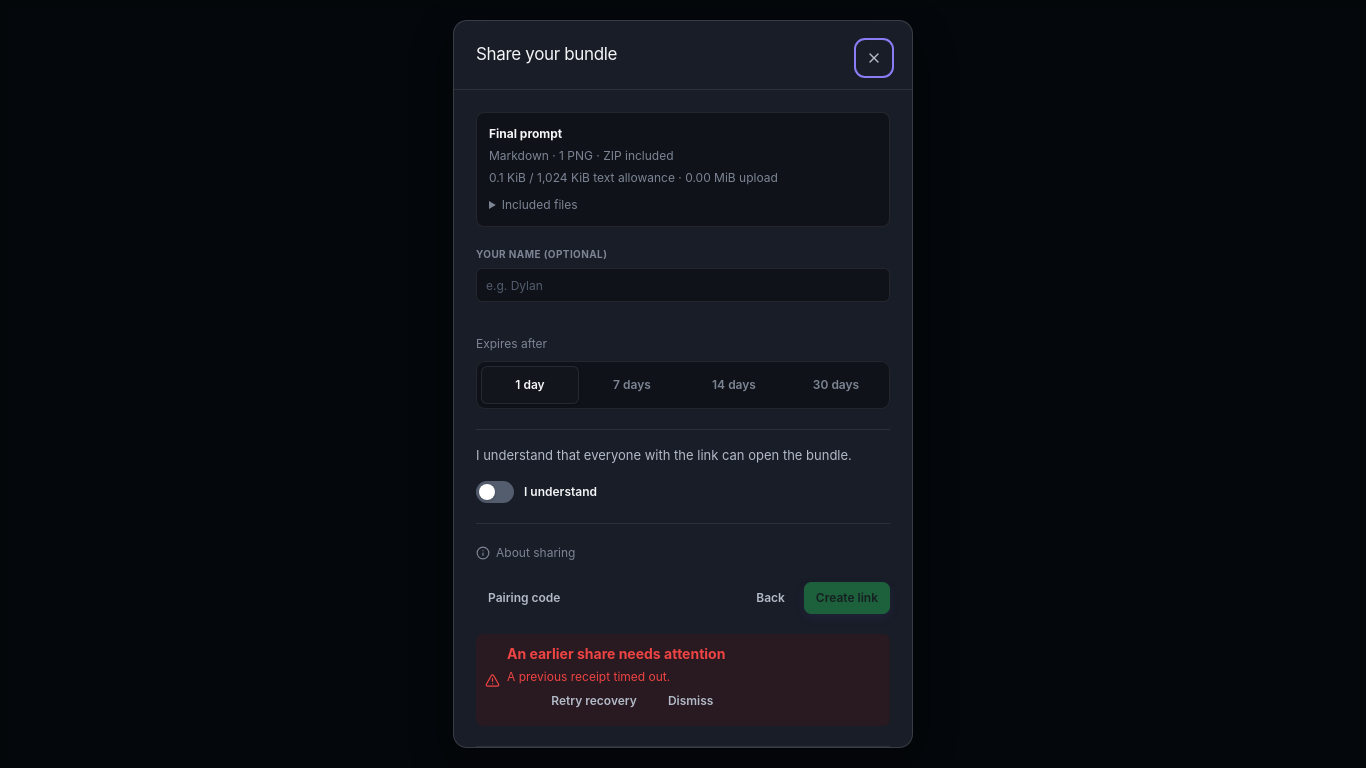
it: HostedShareDialog › keeps recovery warnings visible when retry fails and prevents a second retry while busy
Expected: the text "A previous receipt timed out." is shown, [507,669,670,684]
What coordinates should you click on to do the following:
click the button "Retry recovery"
I would click on:
 (594, 701)
Its box is [539,685,649,717].
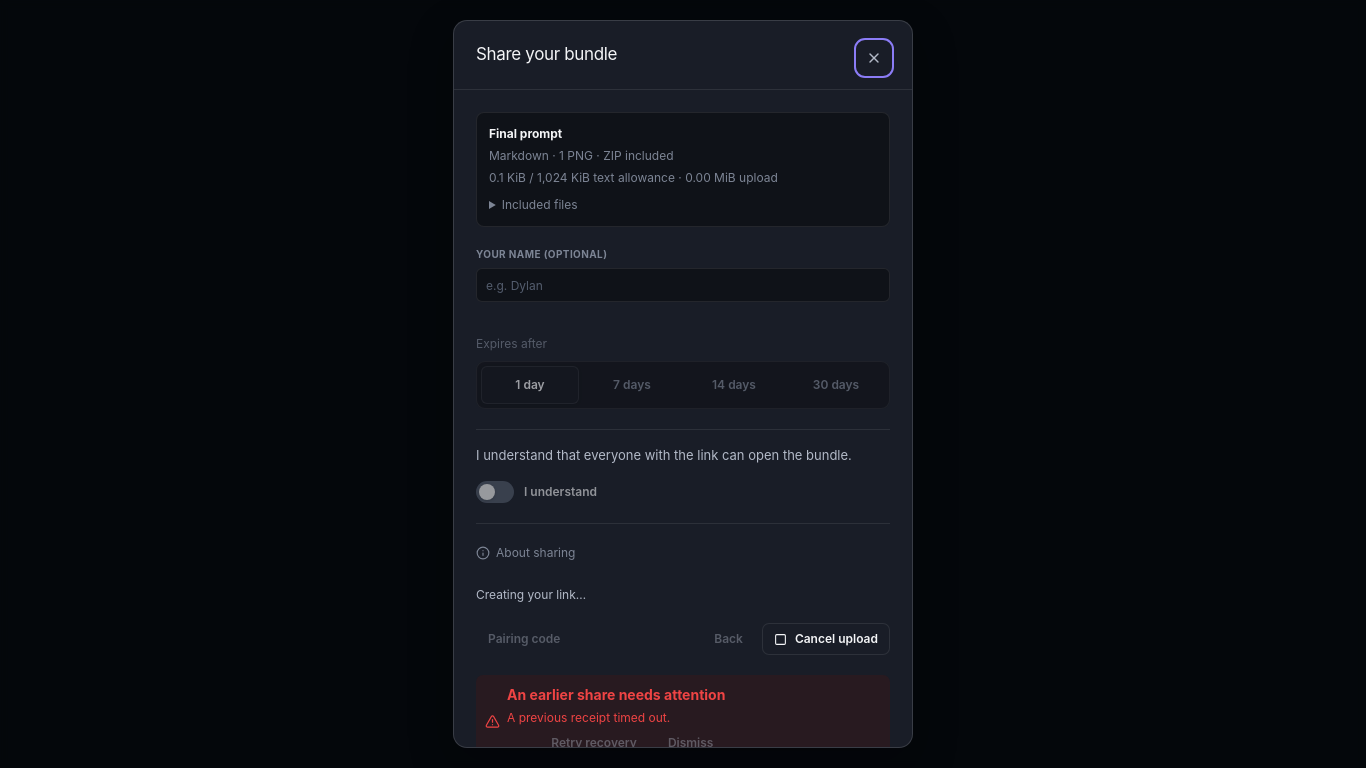
Expected: the button "Retry recovery" is disabled, [539,727,649,747]
Expected: the button "Dismiss" is disabled, [656,727,725,747]
What coordinates should you click on to do the following:
click the button "Retry recovery"
I would click on:
 (594, 743)
Its box is [539,727,649,759].
(page scrolled)
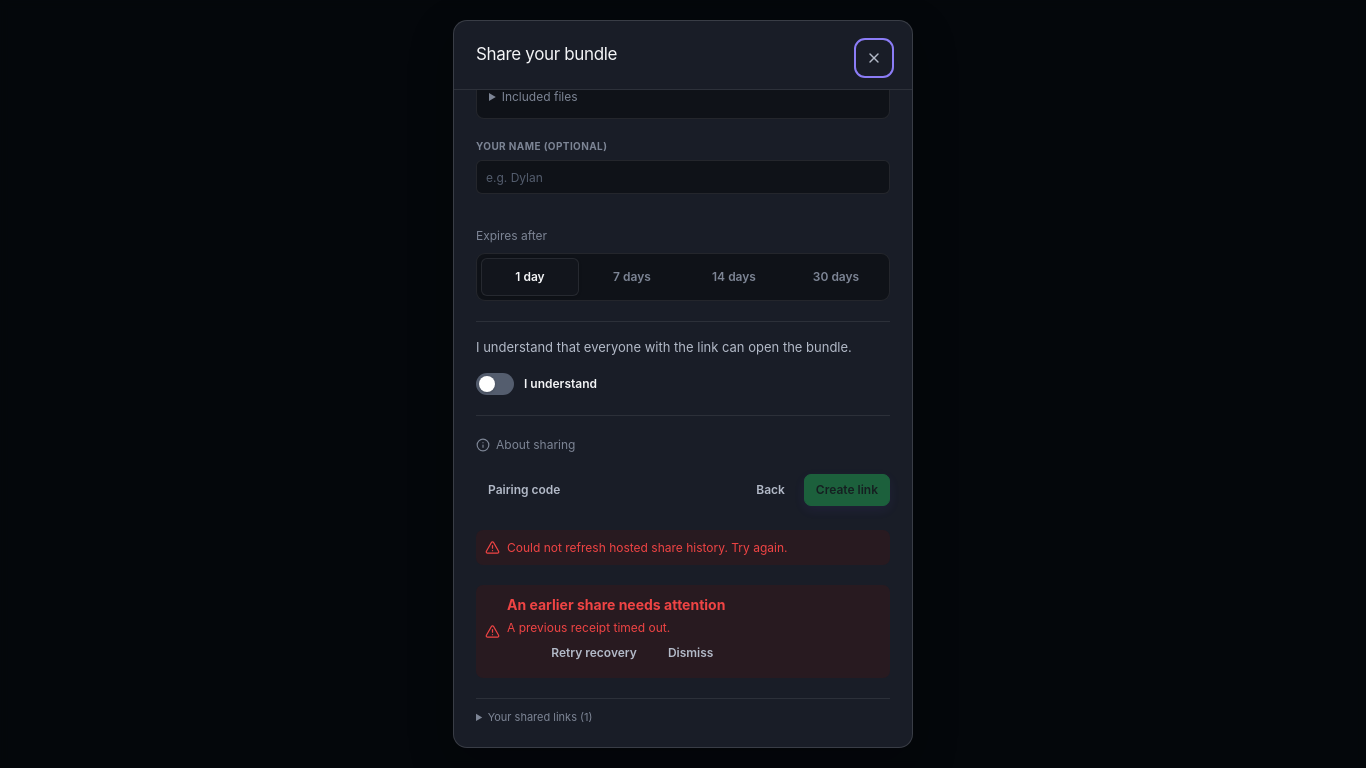
Expected: the text "A previous receipt timed out." is shown, [507,620,670,635]
Expected: the text "Could not refresh hosted share history. Try again." is shown, [476,530,890,565]
Expected: the button "Retry recovery" is enabled, [539,637,649,669]
